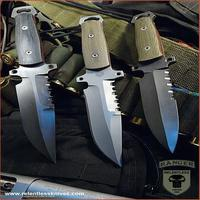knife: (68, 10, 127, 169), (6, 4, 60, 168), (125, 10, 183, 151)
